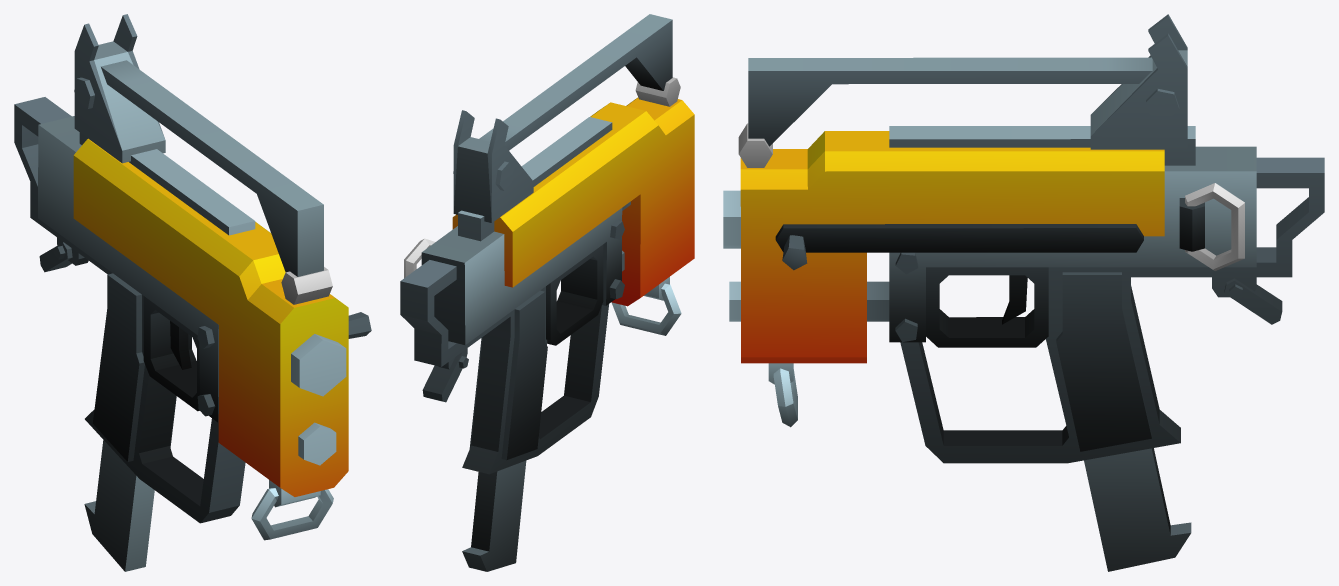
Rendered from Level2Gun.fbx.
3 views of the same model, side by side, from view 1: azimuth 30°, elevation 25°; view 2: azimuth 150°, elevation 25°; view 3: azimuth 270°, elevation 25° (orthographic). The views are drawn at different scales.
Visible parts, largest first — view 1: Weapons_030; view 2: Weapons_030; view 3: Weapons_030.
Boxes of the visible parts, left/top/right/bottom form: Weapons_030: left=14, top=14, right=371, bottom=571; Weapons_030: left=400, top=14, right=694, bottom=571; Weapons_030: left=723, top=14, right=1324, bottom=571.
Bounding box in the file's own units: 15.52 × 64.48 × 64.87.
Materials: 1 (1 with a texture image).
